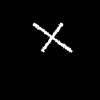single_crochet: (33, 23, 71, 51)
